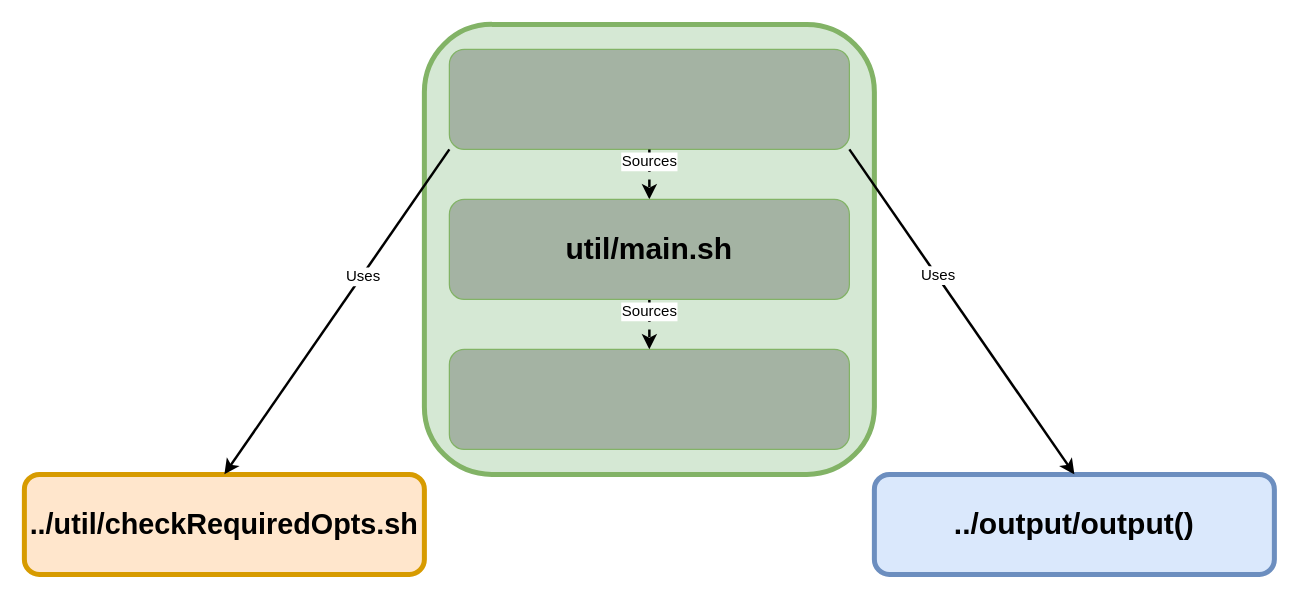
This 1298x598 diagram has some shape labels left out. The shapes that lost their labels are listed below. From the top down, each one's box as (x1, y1, x2, y2) in pixels, then its label:
(448, 48, 849, 149): log()
(448, 348, 849, 449): util/constants.sh
